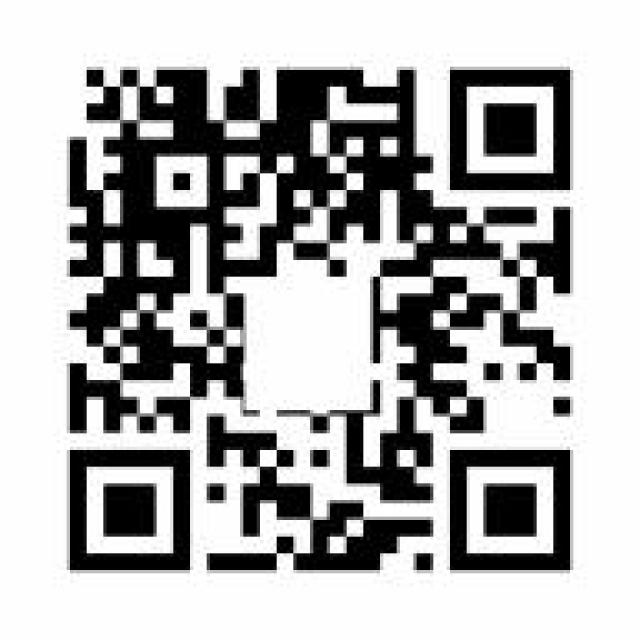QR_CODE: (46, 56, 586, 586)
